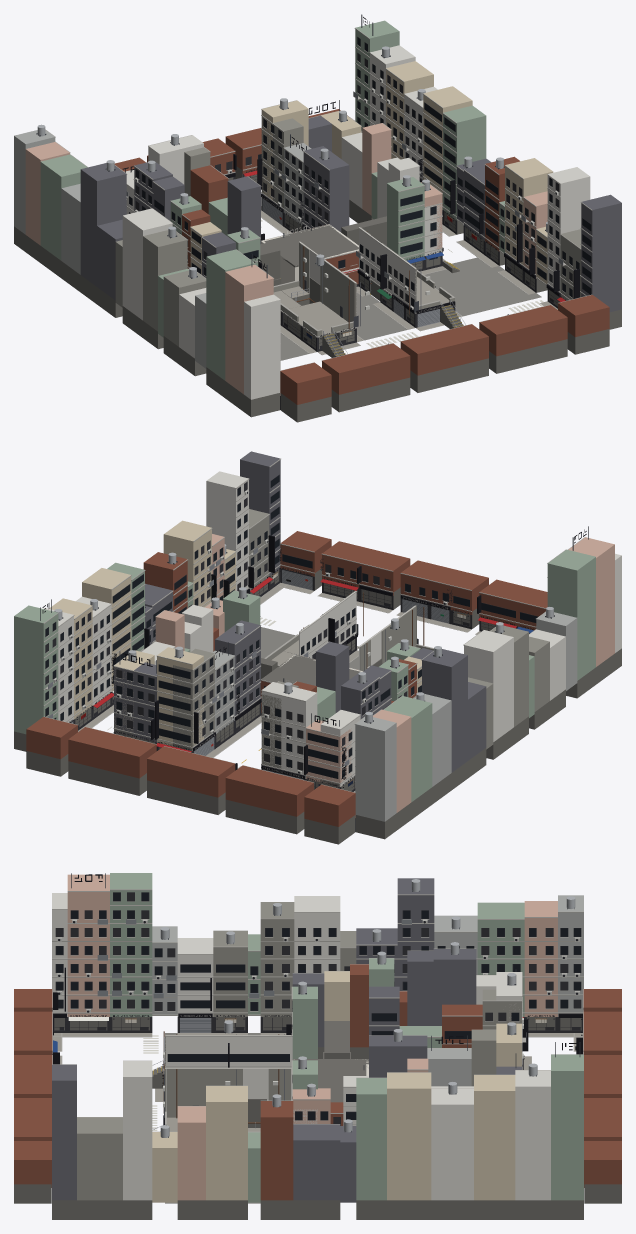
File: gj-shell.glb
3 renders of one model, top to bottom at view 1: azimuth 30°, elevation 25°; view 2: azimuth 150°, elevation 25°; view 3: azimuth 270°, elevation 25°, orthographic. The views are drawn at different scales.
Parts seen in each view (by area): view 1: gj-shell; view 2: gj-shell; view 3: gj-shell.
Boxes of the visible parts, x1=… form: gj-shell: x1=14, y1=14, x2=621, y2=422; gj-shell: x1=14, y1=451, x2=621, y2=844; gj-shell: x1=14, y1=873, x2=621, y2=1219.
Bounding box in the file's own units: 75.4 × 28.39 × 95.4.
